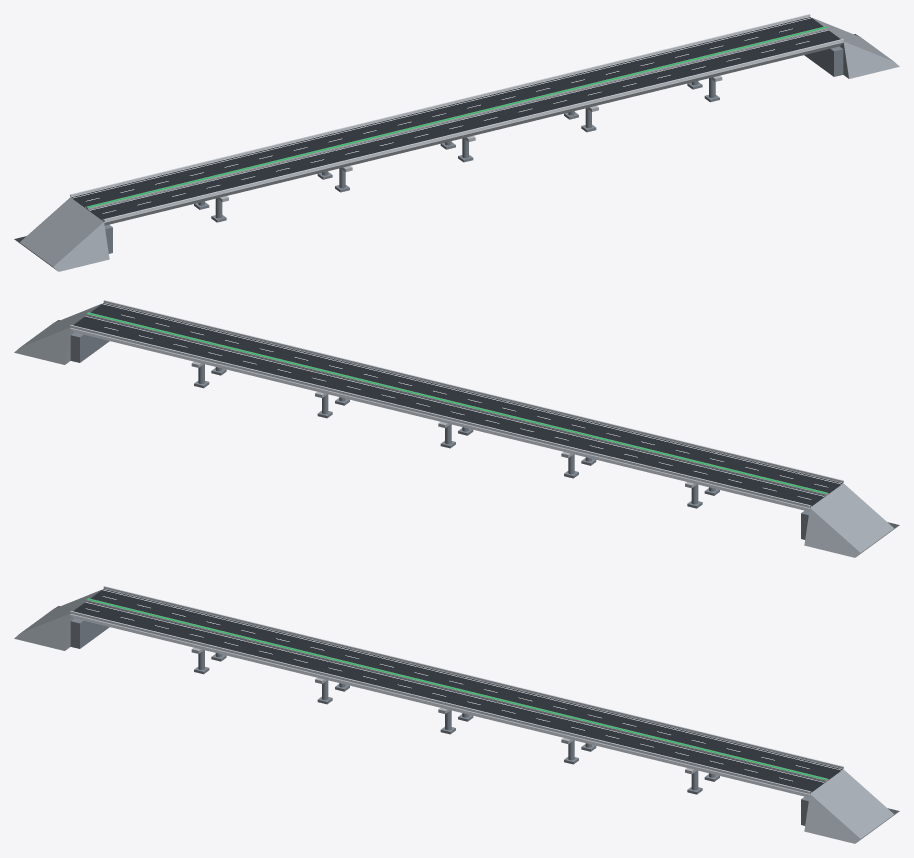
The model's file is bridge-large.glb.
3 views of the same model, one above another, from view 1: azimuth 30°, elevation 25°; view 2: azimuth 150°, elevation 25°; view 3: azimuth 330°, elevation 25° (orthographic).
Parts seen in each view (by area): view 1: BridgeAsphalt, ApproachL, BoxGirder, Deck_MedianCurb, Deck_RailR, Deck_RailL, ApproachR, Deck_MedianGreen, Deck_SolidLine_3, Deck_SolidLine_1, AbutmentR, Deck_DashedLines; view 2: BridgeAsphalt, ApproachL, BoxGirder, Deck_MedianCurb, Deck_RailL, Deck_RailR, ApproachR, Deck_MedianGreen, Deck_SolidLine_0, Deck_SolidLine_2, AbutmentR, Deck_DashedLines; view 3: BridgeAsphalt, ApproachR, BoxGirder, Deck_MedianCurb, Deck_RailR, Deck_RailL, ApproachL, Deck_MedianGreen, Deck_SolidLine_3, Deck_SolidLine_1, AbutmentL, Deck_DashedLines.
Part boxes in pixels (x1,y1,x2,y2): BridgeAsphalt: [71, 17, 840, 221]; ApproachL: [14, 197, 109, 271]; BoxGirder: [104, 42, 843, 225]; Deck_MedianCurb: [86, 26, 827, 209]; Deck_RailR: [103, 39, 843, 221]; Deck_RailL: [70, 14, 810, 196]; ApproachR: [812, 17, 899, 78]; Deck_MedianGreen: [87, 26, 826, 207]; Deck_SolidLine_3: [72, 17, 811, 198]; Deck_SolidLine_1: [89, 30, 828, 210]; AbutmentR: [804, 46, 843, 76]; Deck_DashedLines: [86, 28, 809, 213]; BridgeAsphalt: [73, 303, 842, 507]; ApproachL: [804, 483, 899, 557]; BoxGirder: [70, 328, 809, 511]; Deck_MedianCurb: [86, 312, 827, 495]; Deck_RailL: [70, 325, 810, 507]; Deck_RailR: [103, 300, 843, 482]; ApproachR: [14, 303, 101, 364]; Deck_MedianGreen: [87, 312, 826, 493]; Deck_SolidLine_0: [102, 303, 841, 484]; Deck_SolidLine_2: [85, 316, 824, 496]; AbutmentR: [70, 332, 109, 362]; Deck_DashedLines: [104, 314, 827, 499]; BridgeAsphalt: [73, 589, 842, 793]; ApproachR: [804, 769, 899, 843]; BoxGirder: [70, 614, 809, 797]; Deck_MedianCurb: [86, 598, 827, 781]; Deck_RailR: [70, 611, 810, 793]; Deck_RailL: [103, 586, 843, 768]; ApproachL: [14, 589, 101, 650]; Deck_MedianGreen: [87, 598, 826, 779]; Deck_SolidLine_3: [102, 589, 841, 770]; Deck_SolidLine_1: [85, 602, 824, 782]; AbutmentL: [70, 618, 109, 648]; Deck_DashedLines: [86, 596, 809, 781].
Bounding box in the file's own units: 364 × 14.9 × 33.6.
